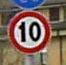limite 10: (7, 11, 51, 54)
